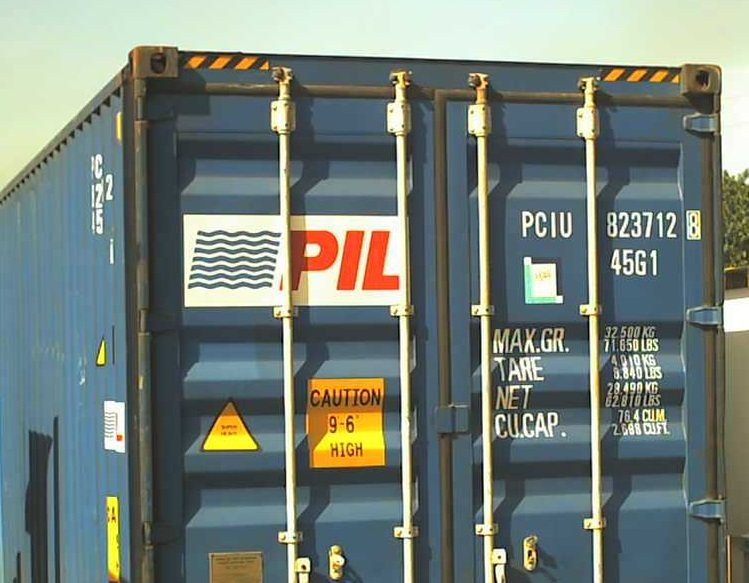container_door: (133, 43, 724, 583)
